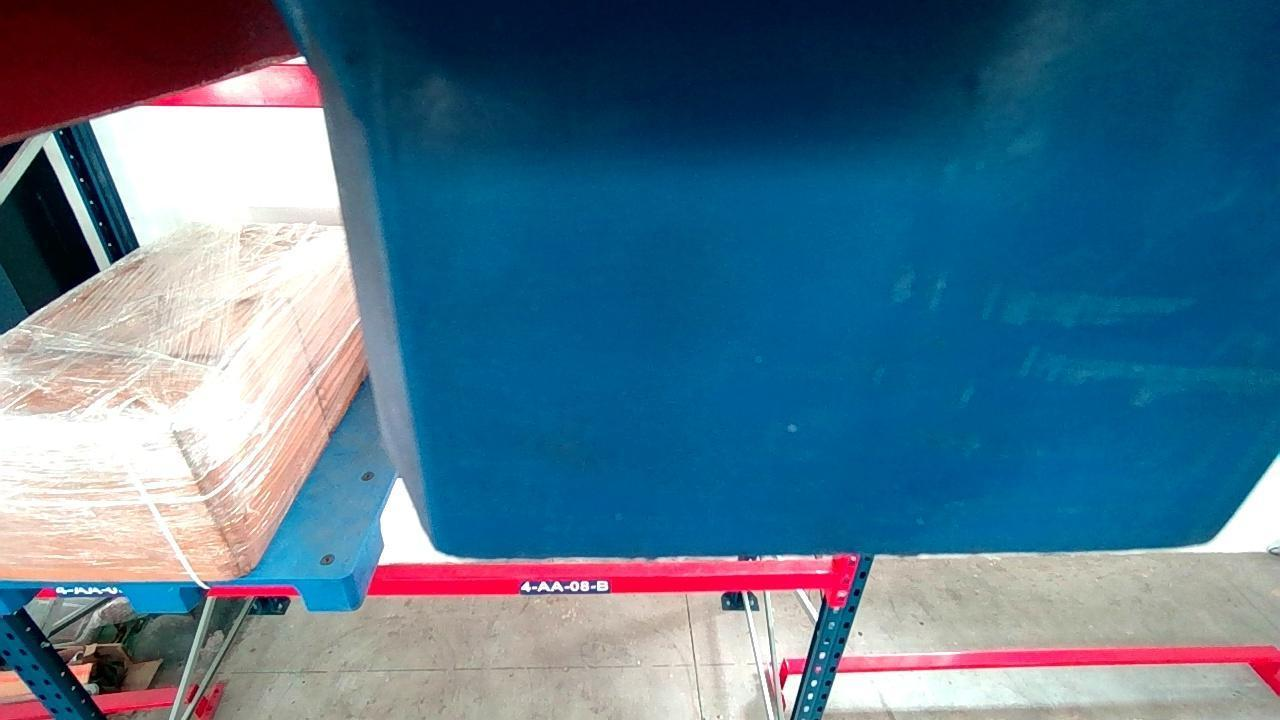h_rack: (21, 572, 844, 598)
small_pallet: (0, 576, 350, 616)
